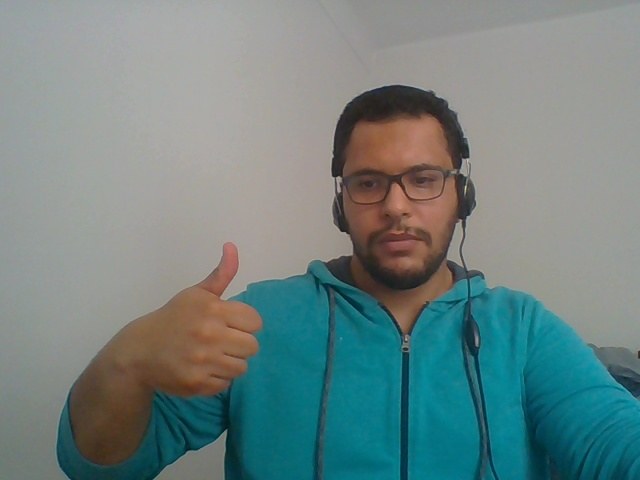ok: (117, 213, 275, 430)
